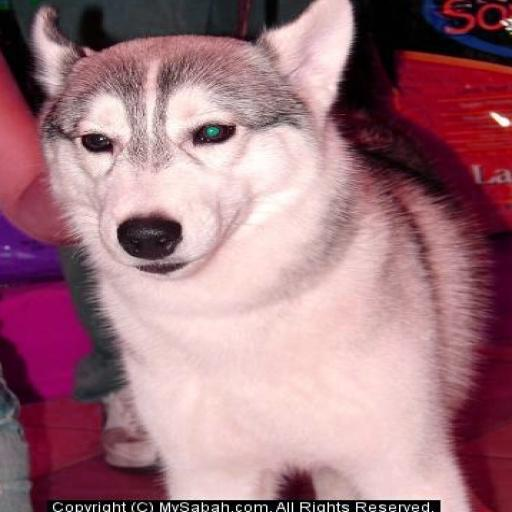dog_face: (40, 0, 348, 283)
